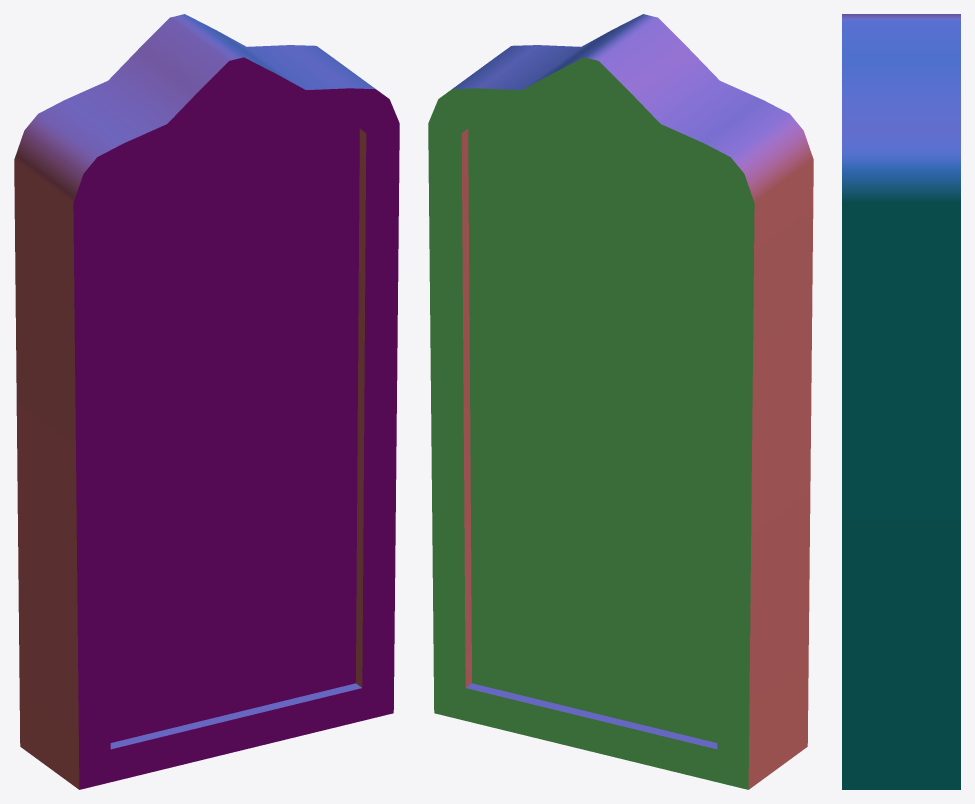
The model's file is grave5 (1).fbx.
The picture shows the model from 3 angles, left to right: view 1: azimuth 30°, elevation 25°; view 2: azimuth 150°, elevation 25°; view 3: azimuth 270°, elevation 25°; orthographic projection.
Visible parts, largest first — view 1: pCube11; view 2: pCube11; view 3: pCube11.
Part boxes in pixels (x1=…): pCube11: x1=14, y1=14, x2=399, y2=789; pCube11: x1=428, y1=14, x2=813, y2=789; pCube11: x1=842, y1=14, x2=960, y2=789.
Size of the model in its own units: 1.04 by 2.1 by 0.3261.
